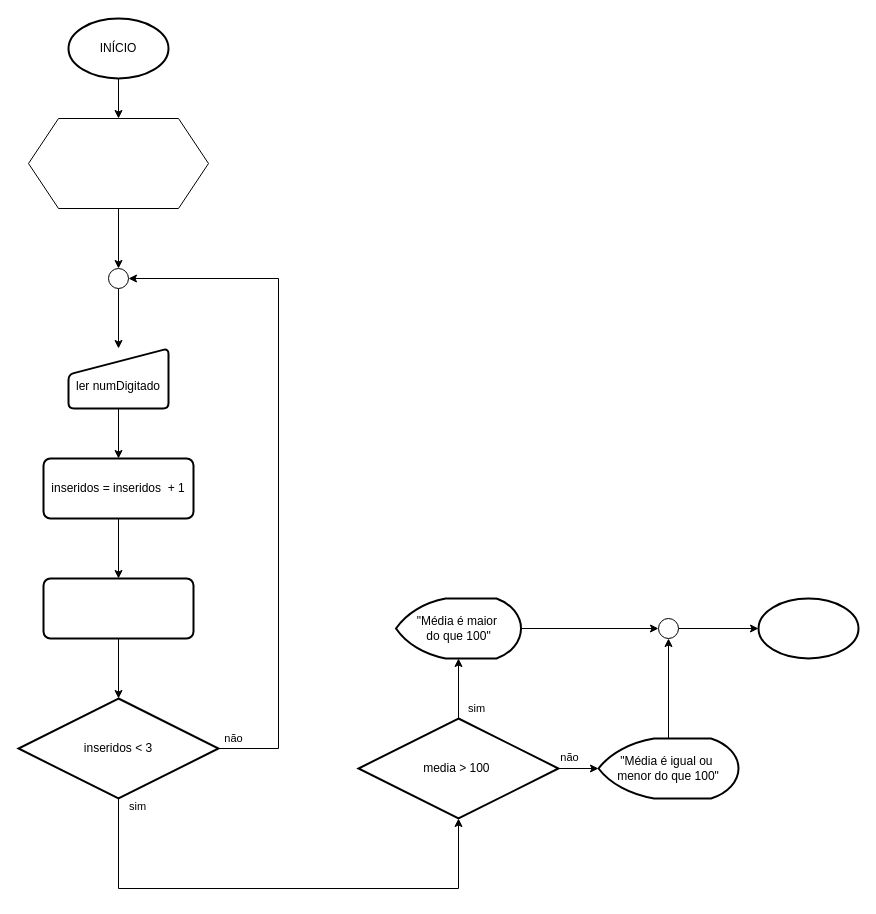
Image size: 876x914. Some labels were removed from this diagram. The shapes that lost their labels are listed below. From the top down, each one's box as (x1, y1, x2, y2) in pixels, then its label:
(28, 118, 208, 208): soma = 0 inseridos = 0 numDigitado media
(42, 577, 194, 639): soma = soma + numDigitado
(757, 597, 859, 659): FIM
